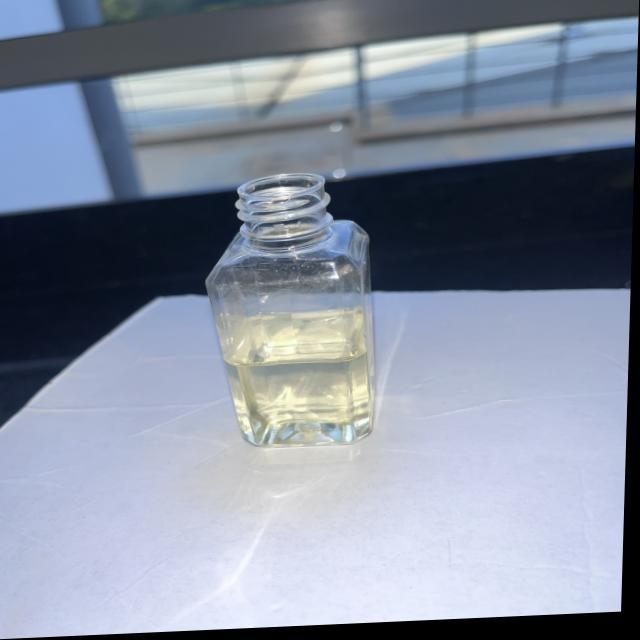oil: (224, 316, 375, 451)
